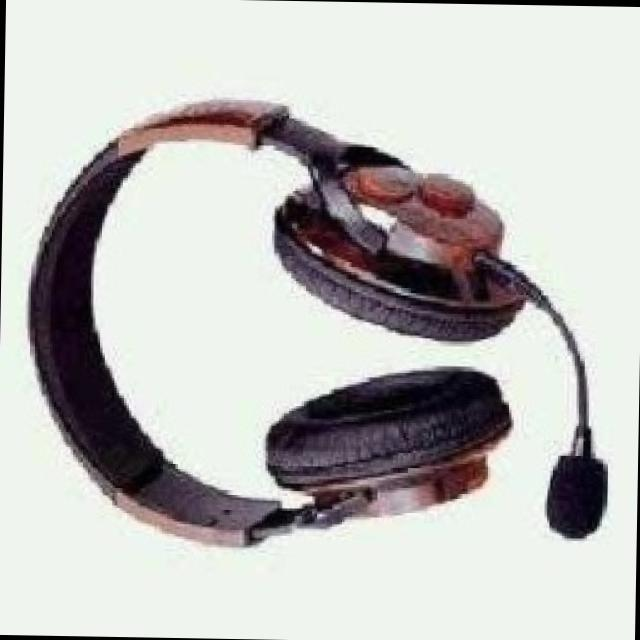kulaklik: (0, 83, 619, 586)
